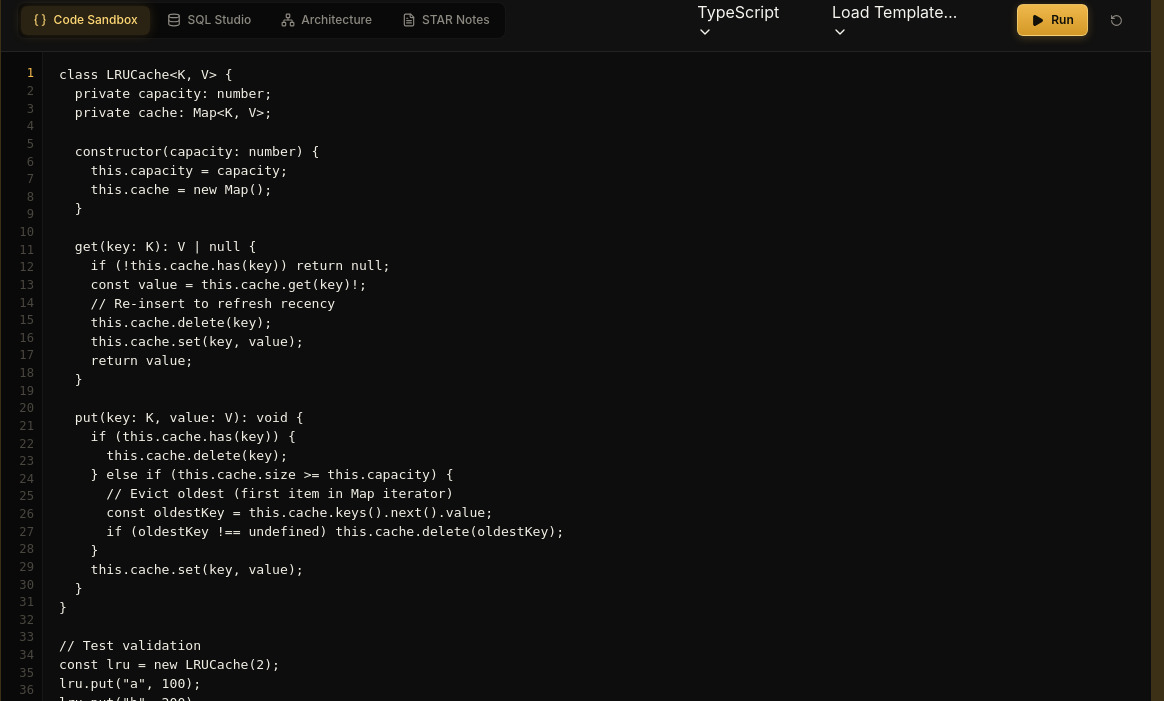
Test: ScratchpadStudio › executes JavaScript code and renders console output
Step 1. Click the button "Run" → coordinates (1052, 20), box [1016,4,1088,36]
(page scrolled)
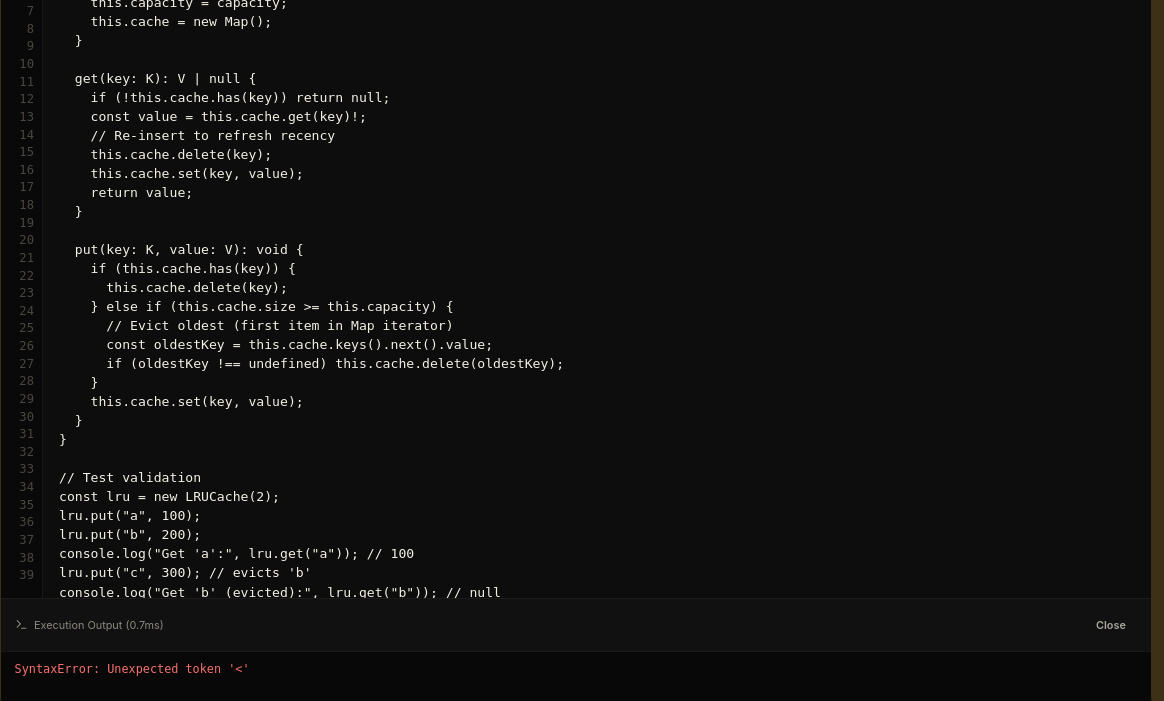
Expected: the text "Execution Output (0.7ms)" is shown, [34,617,164,633]
